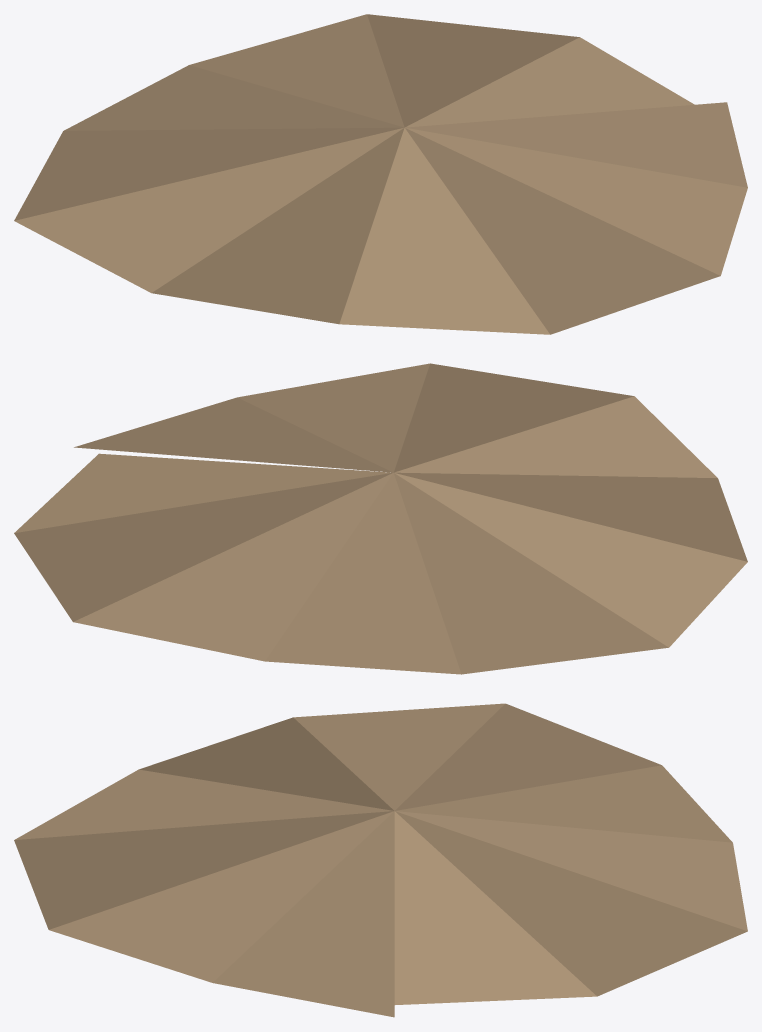
File: stump_old_a.gltf
The picture shows the model from 3 angles, top to bottom: view 1: azimuth 30°, elevation 25°; view 2: azimuth 150°, elevation 25°; view 3: azimuth 270°, elevation 25°; orthographic projection. The views are drawn at different scales.
Parts seen in each view (by area): view 1: Old Stump; view 2: Old Stump; view 3: Old Stump.
Part boxes in pixels (box(x1,y1,x2,y2)): Old Stump: box(14, 14, 747, 334); Old Stump: box(14, 363, 747, 674); Old Stump: box(14, 703, 747, 1017).
Bounding box in the file's own units: 0.7736 × 0.06 × 0.7643.
